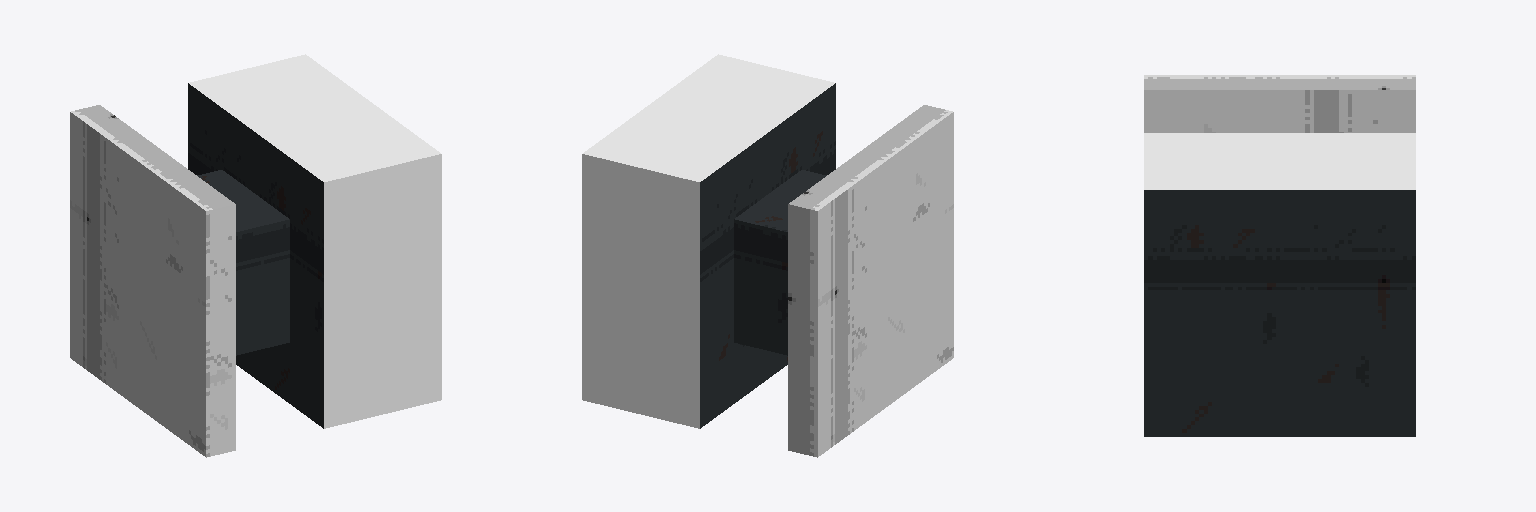
3 renders of one model, left to right at view 1: azimuth 30°, elevation 25°; view 2: azimuth 150°, elevation 25°; view 3: azimuth 270°, elevation 25°, orthographic.
Parts seen in each view (by area): view 1: HangingLight1; view 2: HangingLight1; view 3: HangingLight1.
Part boxes in pixels (x1,y1,x2,y2): HangingLight1: (70, 54, 441, 457); HangingLight1: (582, 54, 953, 457); HangingLight1: (1144, 75, 1415, 436).
Size of the model in its own units: 1 by 1 by 1.
4 materials, 2 textured.